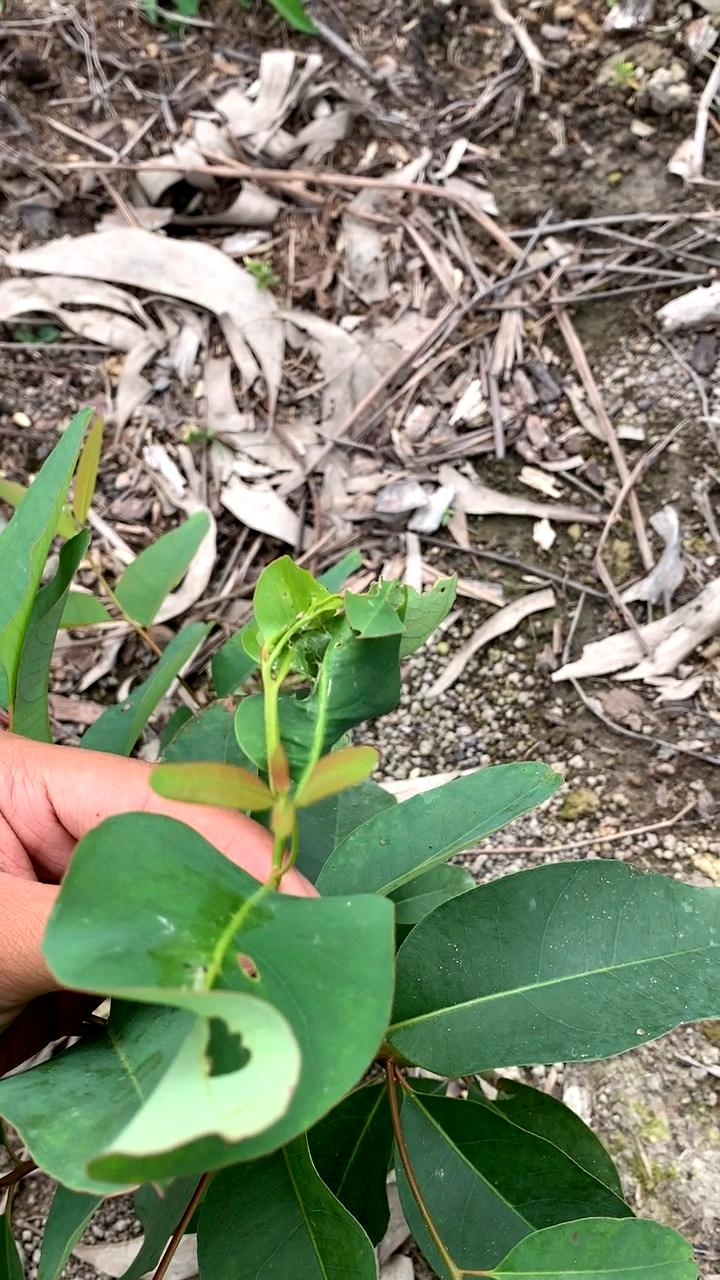Leaf Roller - Leaf: (233, 550, 431, 754)
